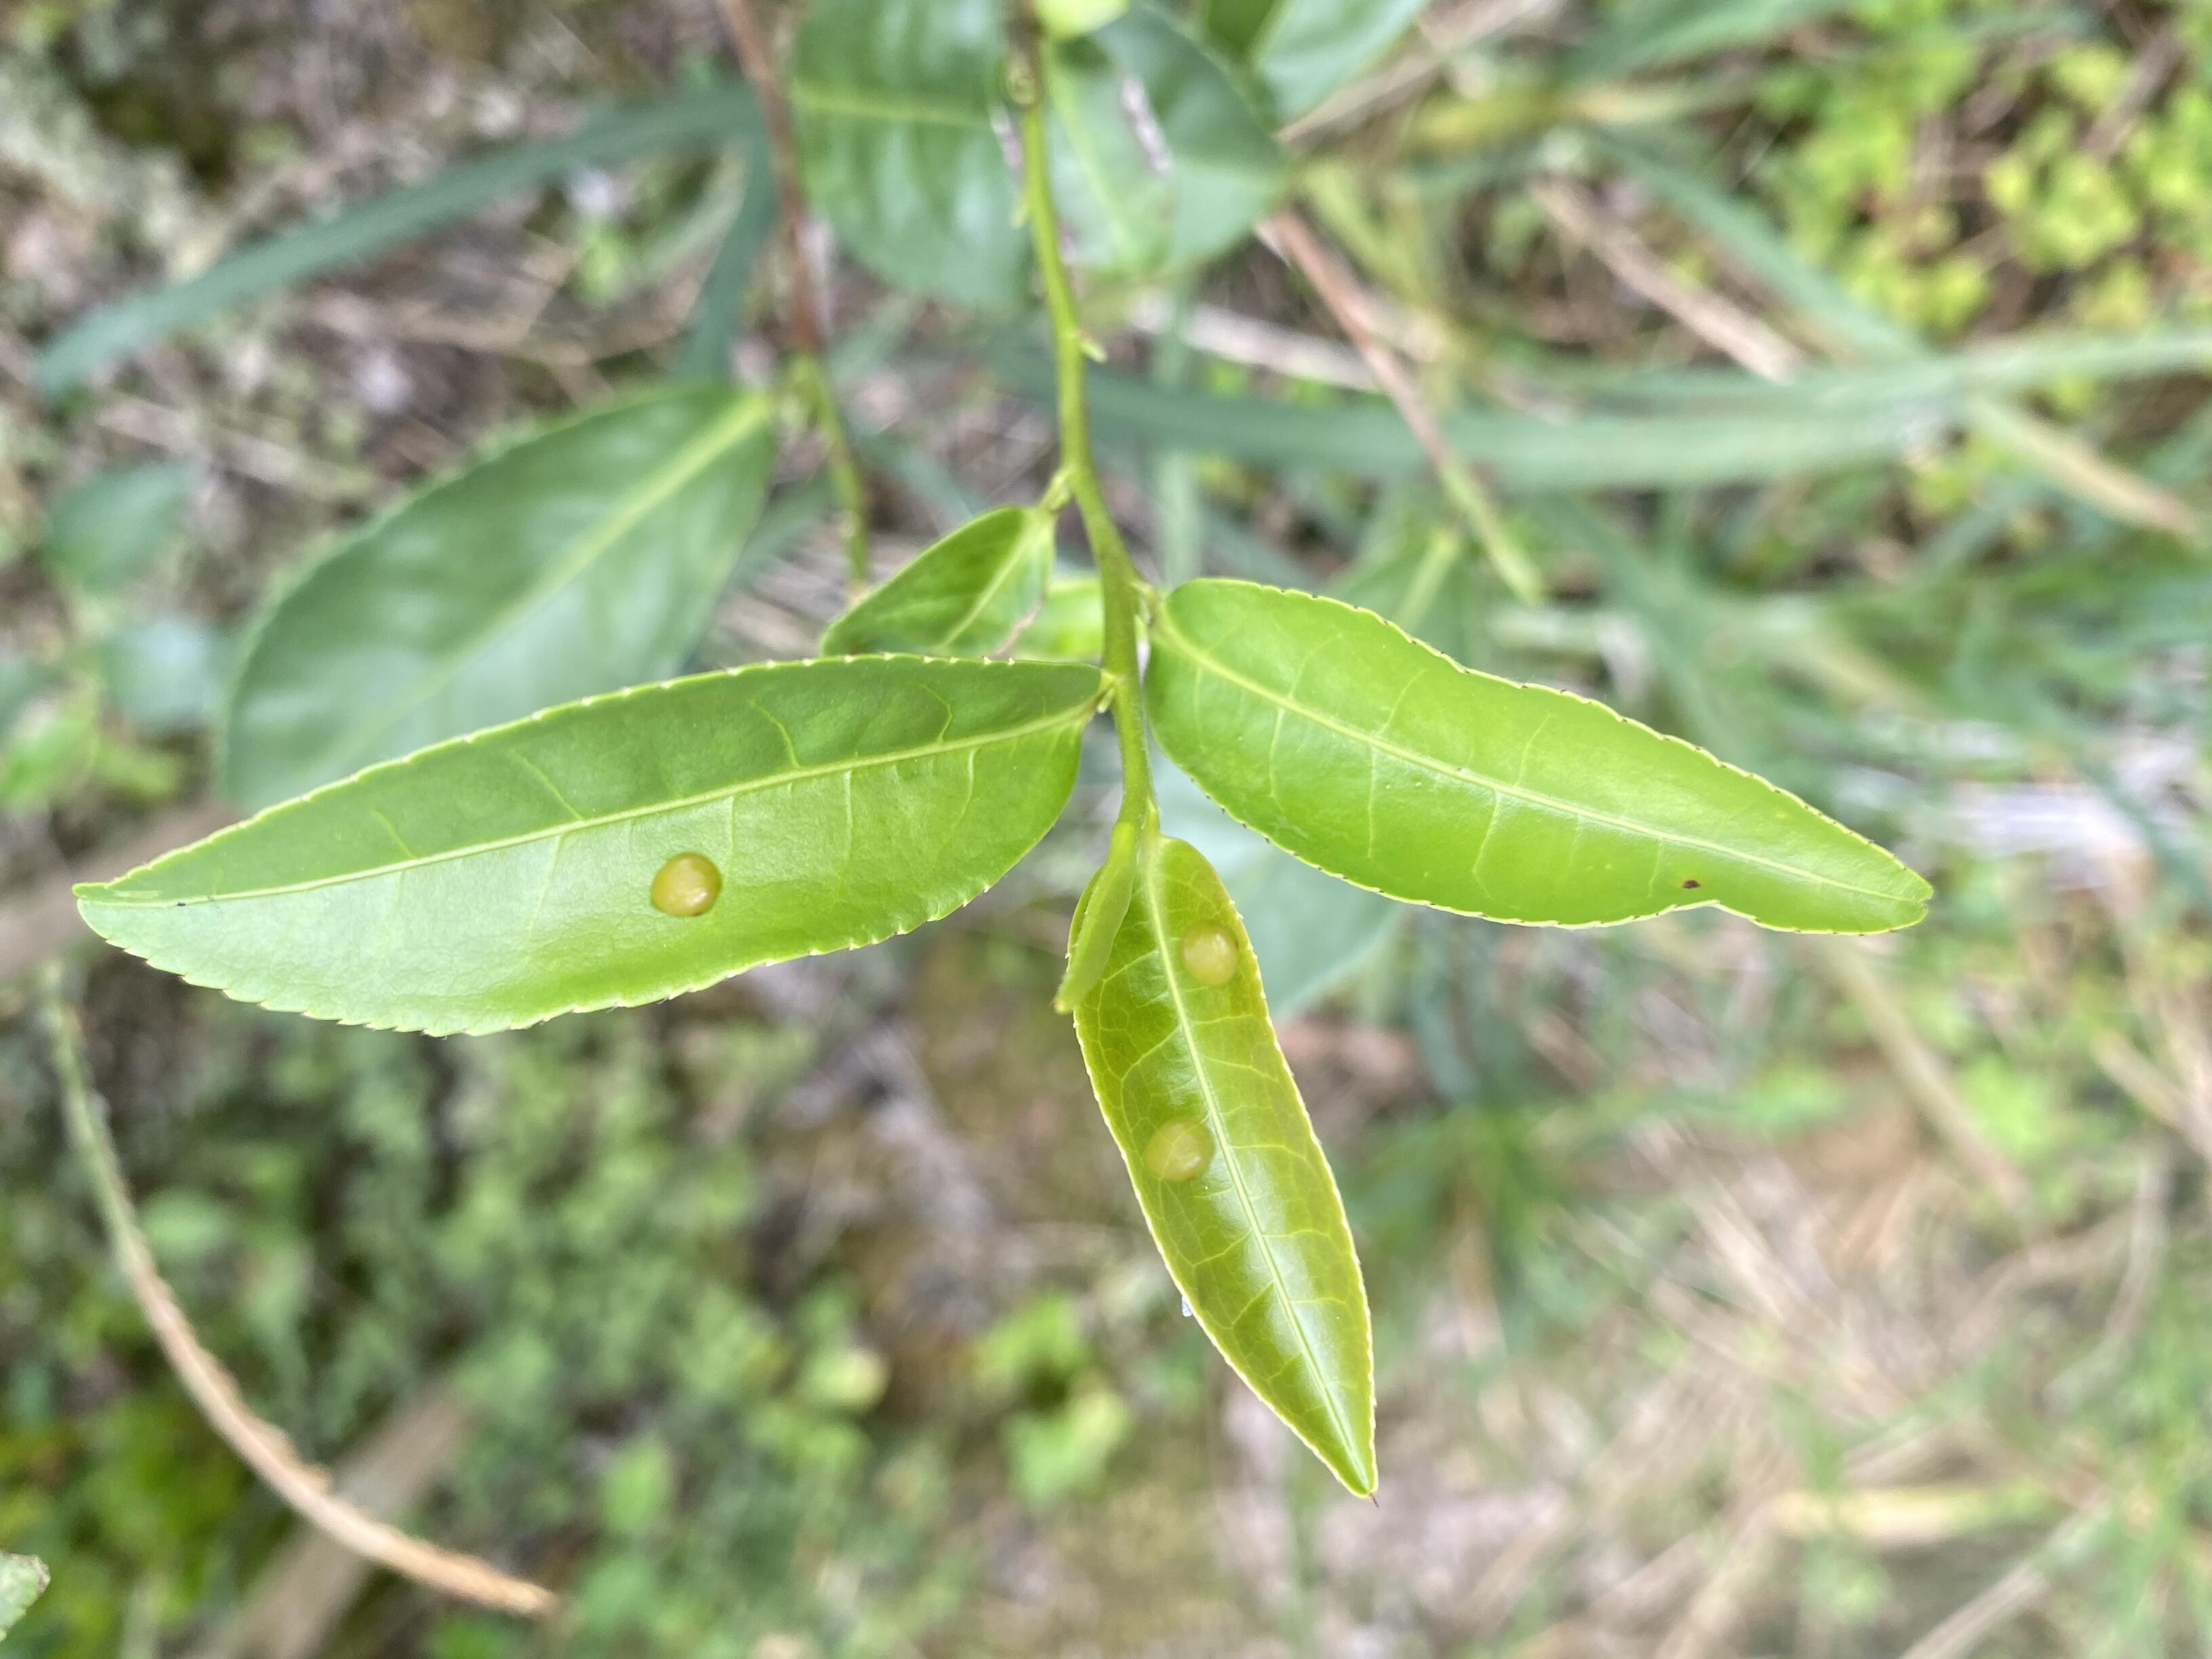chabing_high: (1068, 835, 1379, 1495)
chabing_low: (71, 650, 1104, 1040)
tanju_low: (1144, 577, 1937, 939), (820, 505, 1059, 659)
